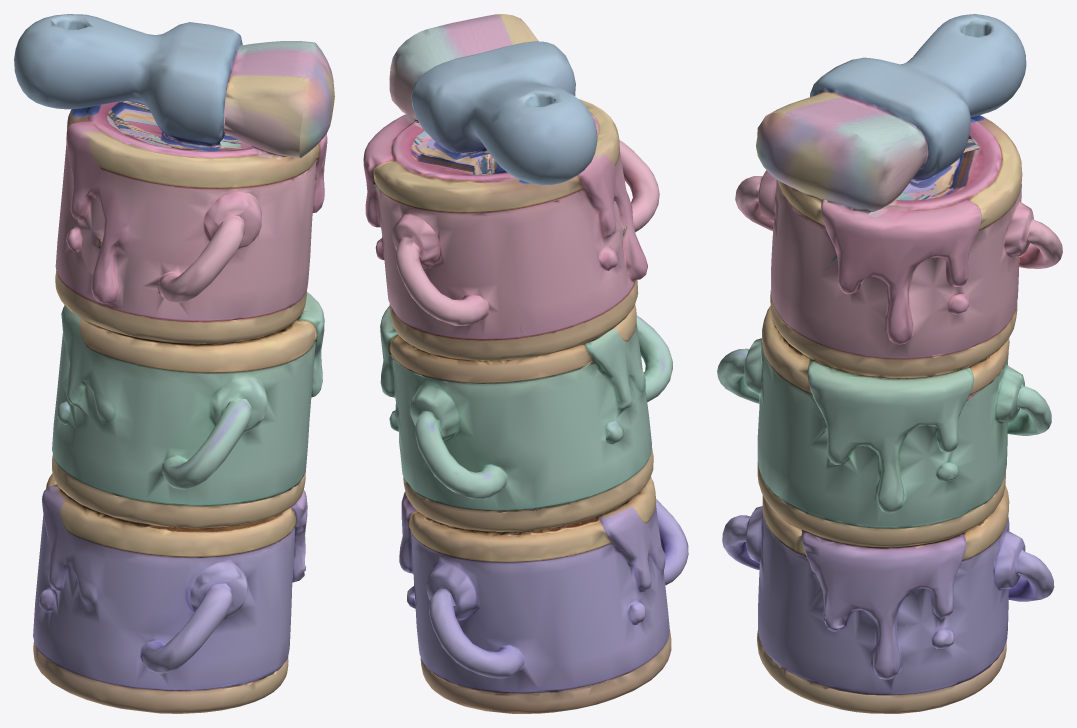
3 views of the same model, side by side, from view 1: azimuth 30°, elevation 25°; view 2: azimuth 150°, elevation 25°; view 3: azimuth 270°, elevation 25° (orthographic). The views are drawn at different scales.
Visible parts, largest first — view 1: repaired; view 2: repaired; view 3: repaired.
Part boxes in pixels (<box>): repaired: <box>14,14,334,713</box>; repaired: <box>363,14,688,713</box>; repaired: <box>717,14,1062,713</box>.
Bounding box in the file's own units: 0.4457 × 0.9998 × 0.5064.
Materials: 1 (1 with a texture image).
